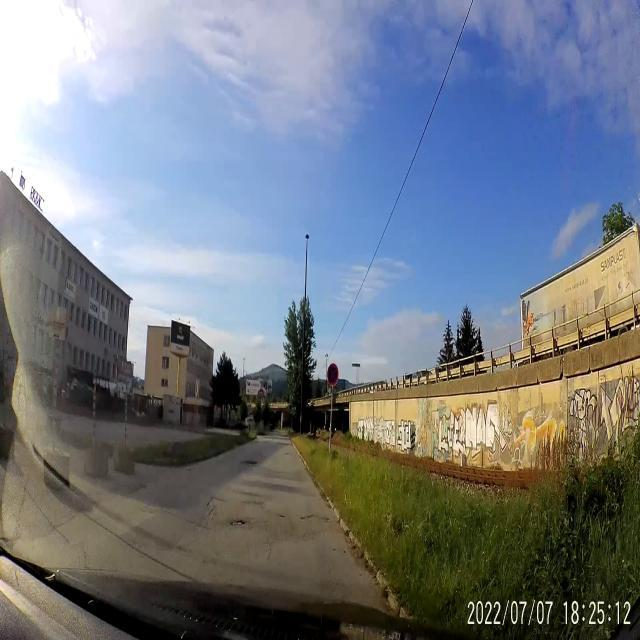Pothole: (296, 509, 330, 528), (225, 513, 252, 529), (240, 458, 262, 468)
